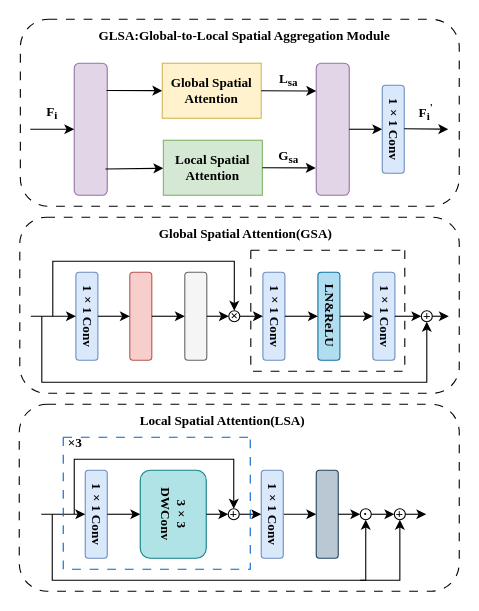
The diagram is 479 pixels wide and 611 high, and some of its shapes have lost their labels. The box of each missing label's shape, as (x1, y1, x2, y2) in pixels:
Concatence: (315, 62, 349, 195)
MLP: (250, 249, 405, 371)
Sigmoid: (315, 469, 338, 558)
Softmaax: (184, 271, 207, 360)
Split Channel: (73, 62, 107, 195)
Transpose: (129, 271, 152, 360)
